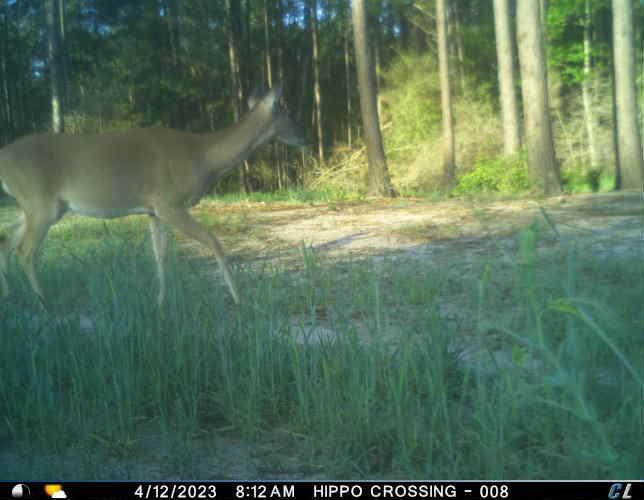Deer: (0, 72, 314, 311)
